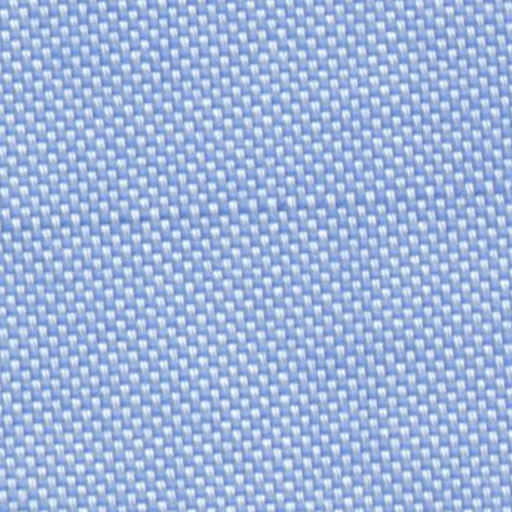TuoSha: (16, 170, 500, 256)
